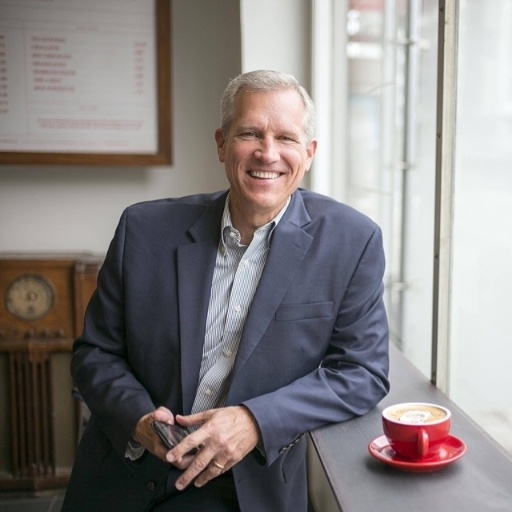hand: (169, 393, 263, 510), (137, 404, 206, 472)
